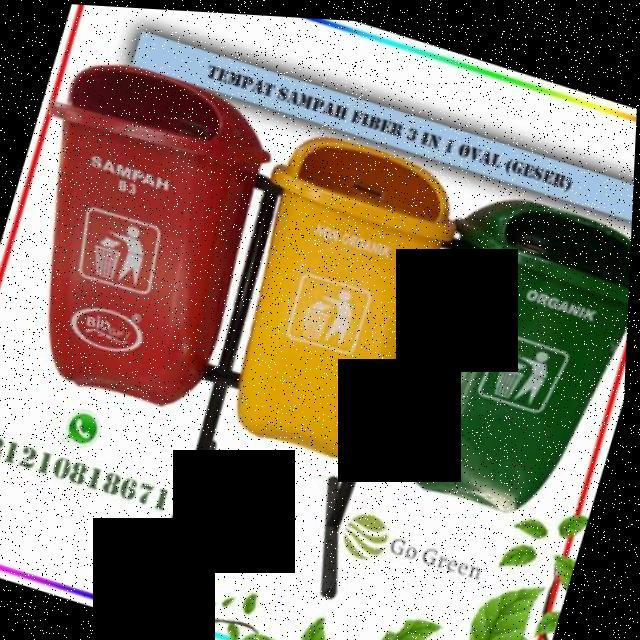bin: (0, 33, 284, 429), (192, 107, 478, 489), (373, 163, 635, 537)
